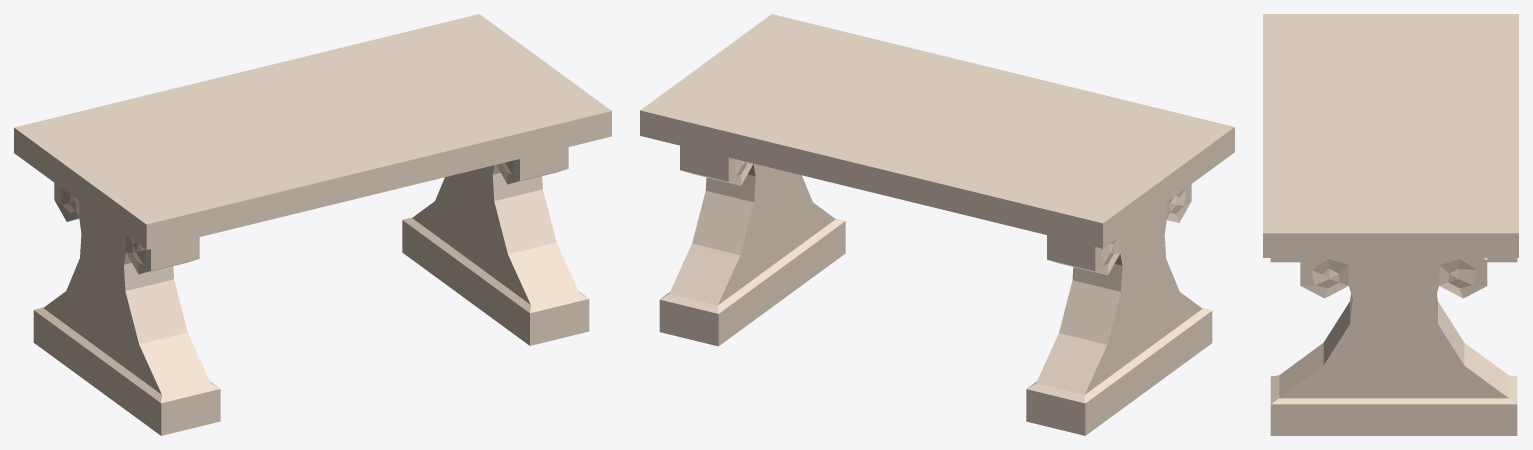
The model's file is empire-bench-table-empire.glb.
The picture shows the model from 3 angles, left to right: view 1: azimuth 30°, elevation 25°; view 2: azimuth 150°, elevation 25°; view 3: azimuth 270°, elevation 25°; orthographic projection. The views are drawn at different scales.
Visible parts, largest first — view 1: SM_Bench_Table_Empire; view 2: SM_Bench_Table_Empire; view 3: SM_Bench_Table_Empire.
Part boxes in pixels (left/top/right/bottom): SM_Bench_Table_Empire: left=14, top=14, right=611, bottom=435; SM_Bench_Table_Empire: left=640, top=14, right=1234, bottom=435; SM_Bench_Table_Empire: left=1263, top=14, right=1518, bottom=435.
Size of the model in its own units: 2 by 0.9007 by 0.9883.
